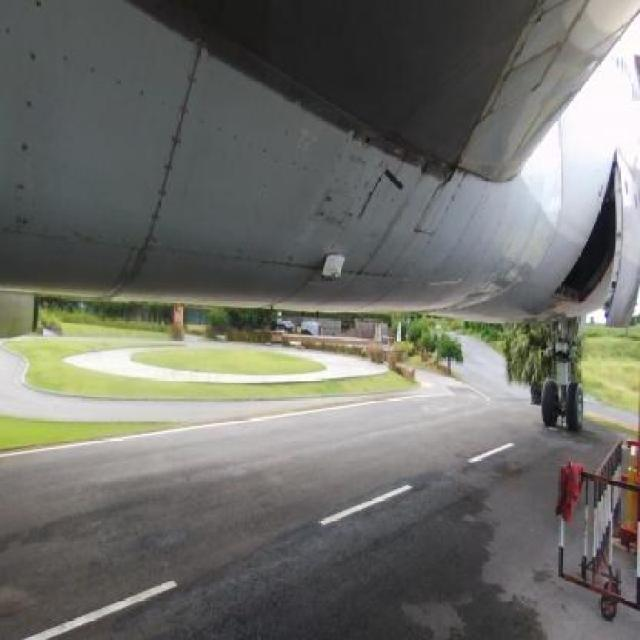Missing-Rivet: (184, 104, 324, 181), (56, 50, 179, 124), (116, 233, 307, 278), (334, 130, 431, 215), (153, 96, 192, 236), (11, 42, 40, 227), (295, 182, 328, 230), (342, 263, 404, 288)
